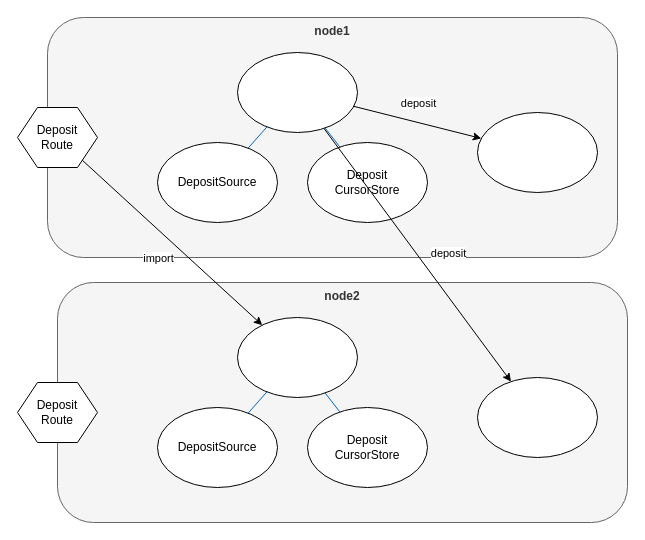
This 645x540 diagram has some shape labels left out. Each missing label, with the centre of its shape:
id: a1 AccountEntity: the point at 537,417
id: a2 AccountEntity: the point at 537,152
id: m1 DepositImporting Manager: the point at 297,92
id: m2 DepositImporting Manager: the point at 297,357
